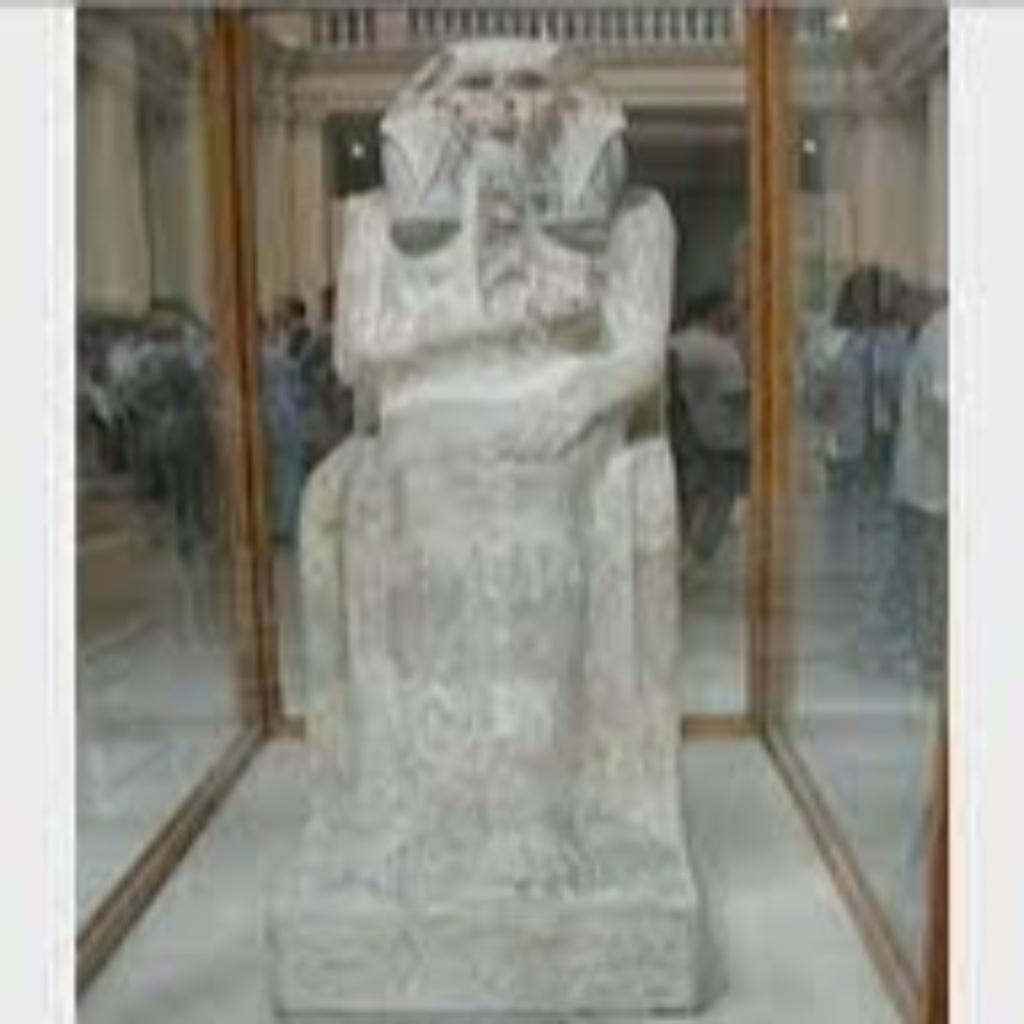Statue of King Zoser: (258, 31, 724, 1016)
